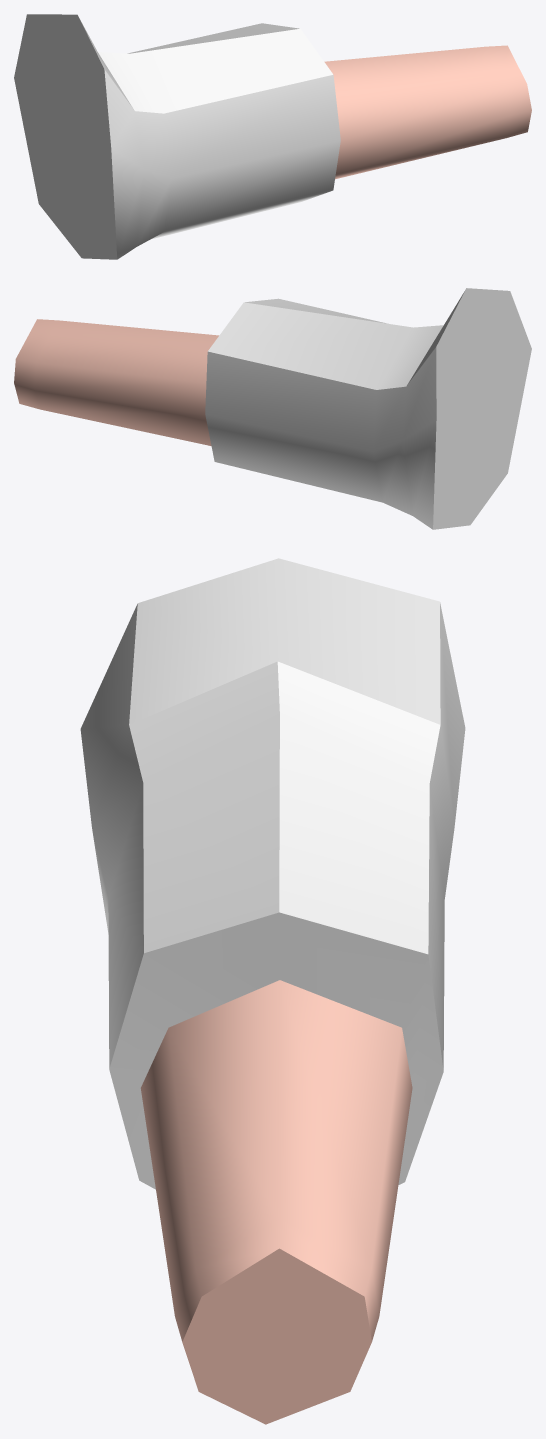
File: UpperArm_L.FBX
The picture shows the model from 3 angles, top to bottom: view 1: azimuth 30°, elevation 25°; view 2: azimuth 150°, elevation 25°; view 3: azimuth 270°, elevation 25°; orthographic projection. The views are drawn at different scales.
Parts seen in each view (by area): view 1: UpperArm_L; view 2: UpperArm_L; view 3: UpperArm_L.
Part boxes in pixels (x1,y1,x2,y2): UpperArm_L: (14, 14, 531, 259); UpperArm_L: (14, 288, 531, 529); UpperArm_L: (80, 558, 465, 1424).
Bounding box in the file's own units: 18.52 × 6.92 × 9.53.
